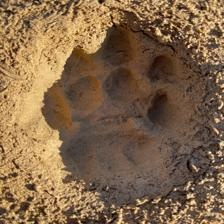raccoon: (77, 80, 150, 154)
